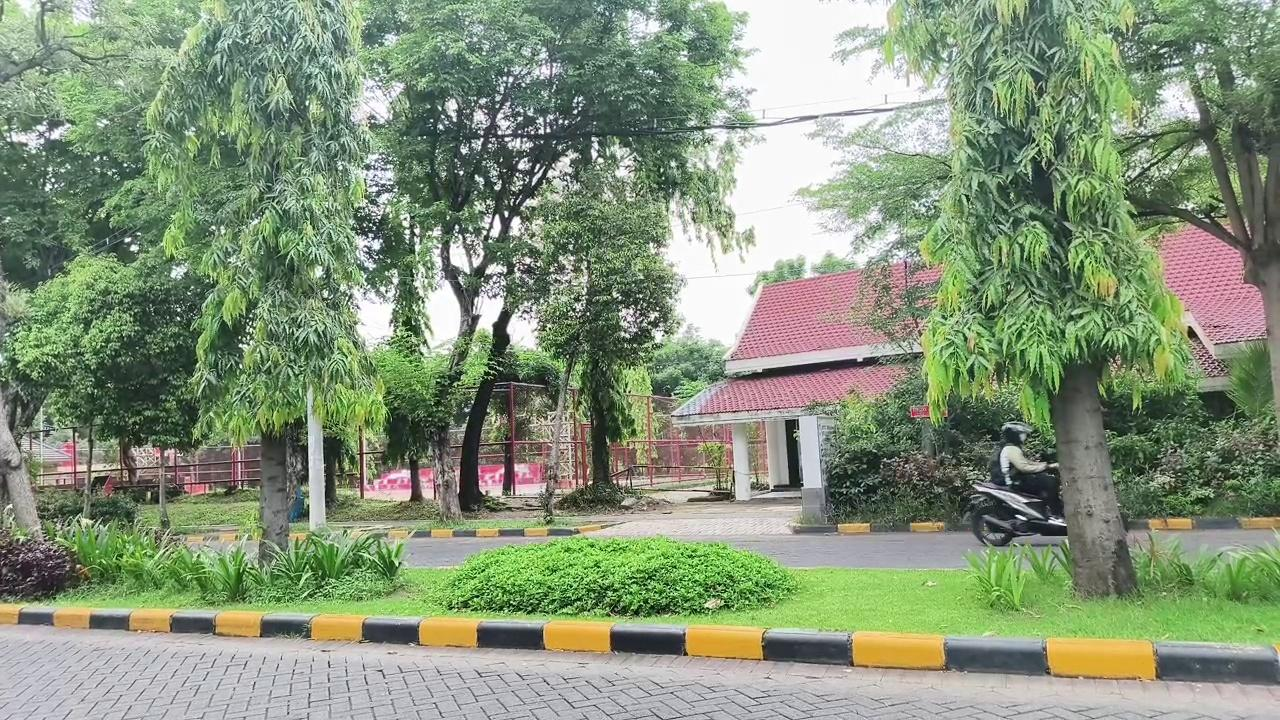Helmet: (990, 422, 1064, 520)
Motor: (970, 482, 1066, 546)
